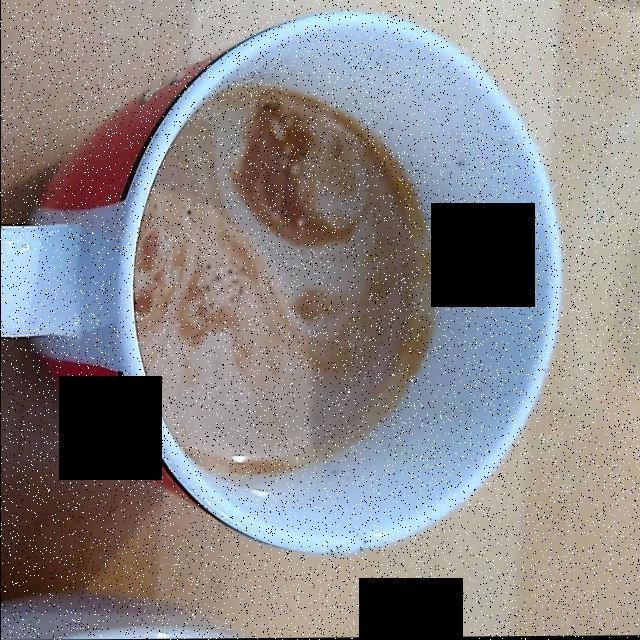risotto: (139, 89, 433, 470)
